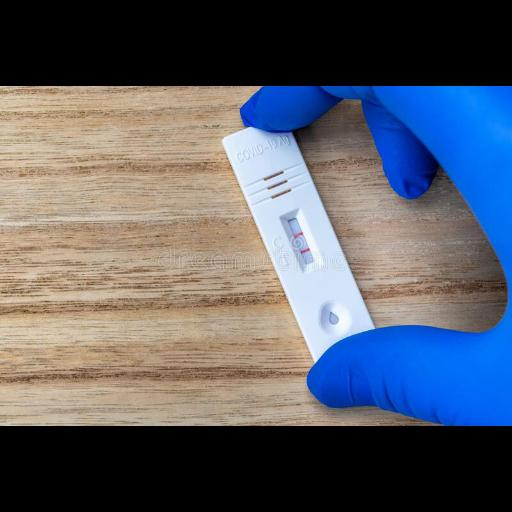Pos: (224, 115, 375, 355)
